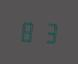eight: (19, 18, 37, 43)
three: (38, 19, 56, 44)
